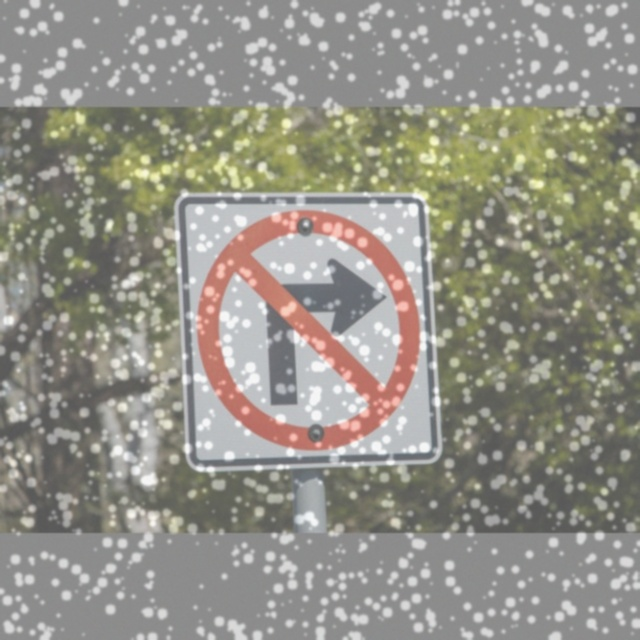Right_Turn_Prohibited: (193, 210, 429, 452)
